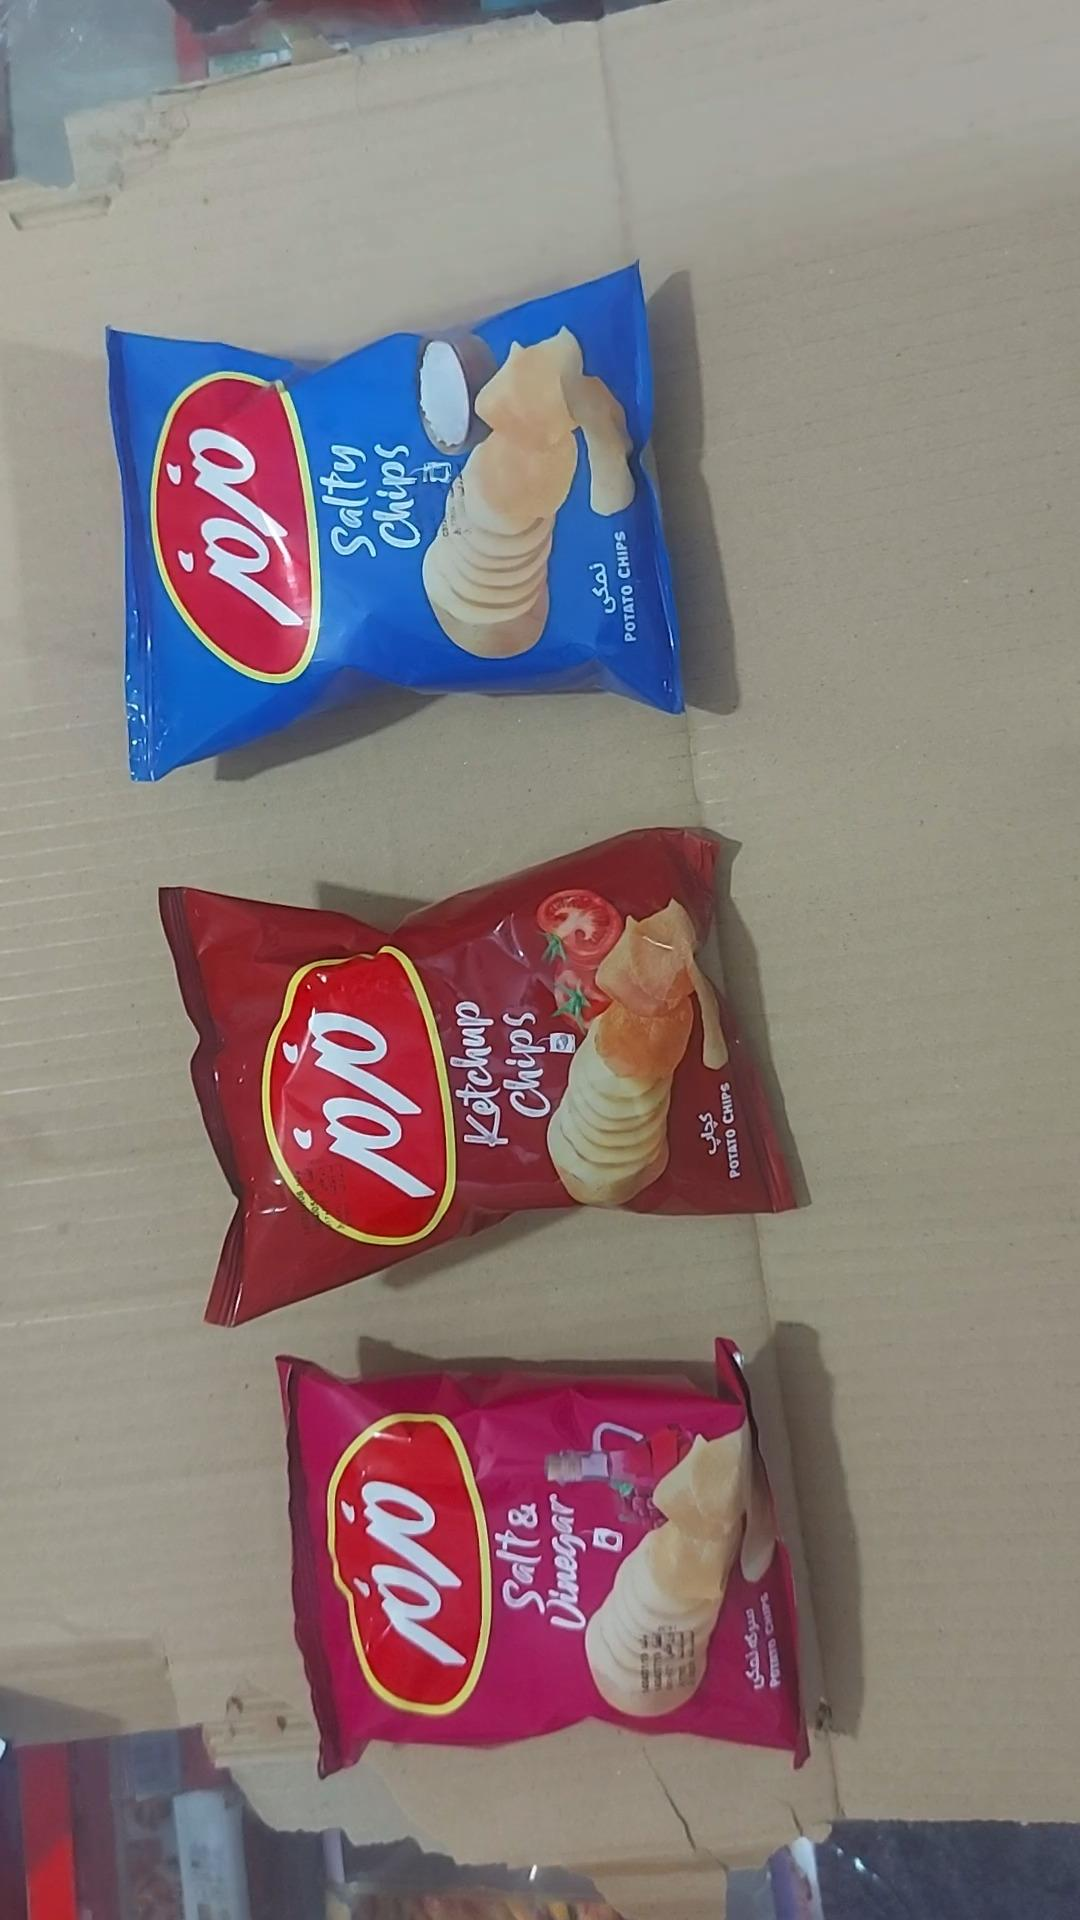Maz Maz ketchup chips: (160, 828, 796, 1327)
Maz Maz salty chips: (107, 266, 683, 779)
Maz Maz vinegar chips: (280, 1338, 808, 1774)
